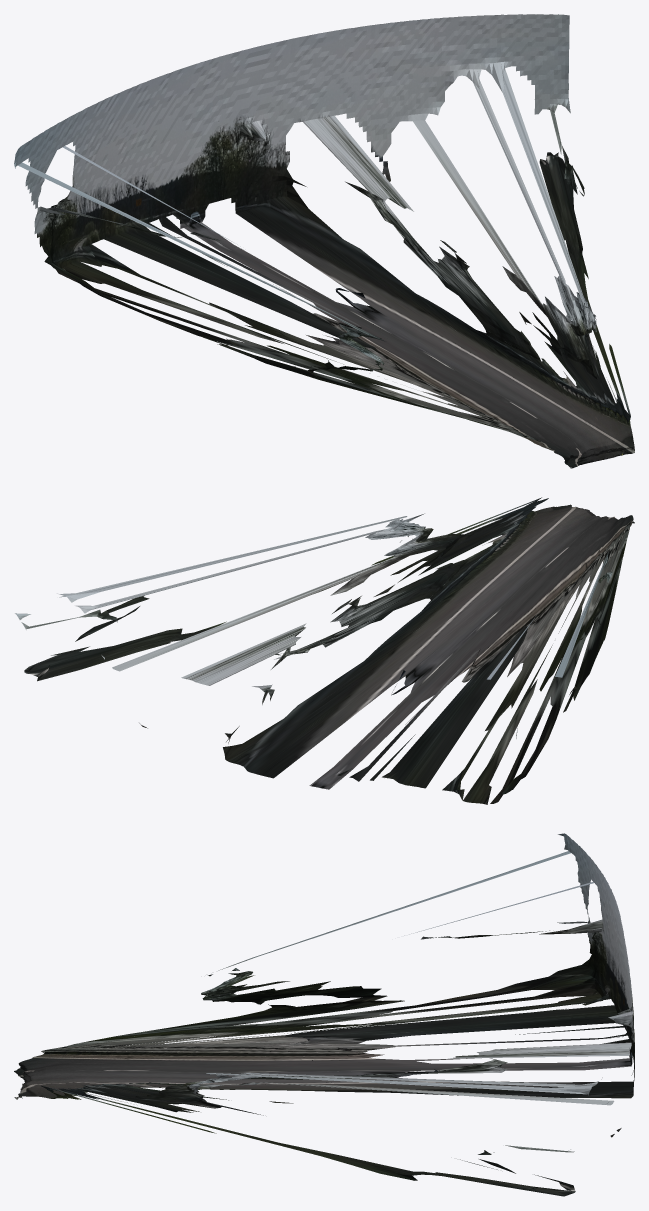
The picture shows the model from 3 angles, top to bottom: view 1: azimuth 30°, elevation 25°; view 2: azimuth 150°, elevation 25°; view 3: azimuth 270°, elevation 25°; orthographic projection. The views are drawn at different scales.
Visible parts, largest first — view 1: defaultobject; view 2: defaultobject; view 3: defaultobject.
Boxes of the visible parts, x1=… form: defaultobject: x1=14, y1=14, x2=634, y2=468; defaultobject: x1=15, y1=497, x2=634, y2=804; defaultobject: x1=14, y1=833, x2=634, y2=1196.
Bounding box in the file's own units: 40.86 × 12.01 × 44.61.
1 material, 1 textured.
